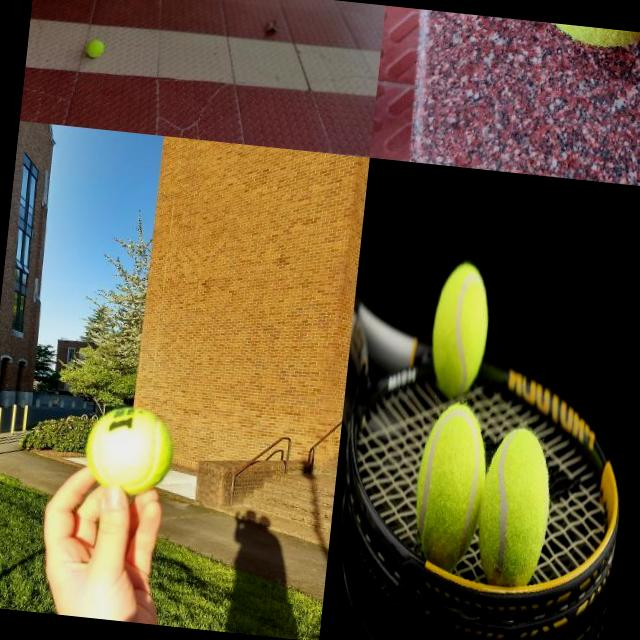Tennis Ball: (409, 398, 492, 568), (473, 426, 558, 584), (81, 402, 180, 499), (426, 261, 496, 398), (85, 38, 104, 58)
